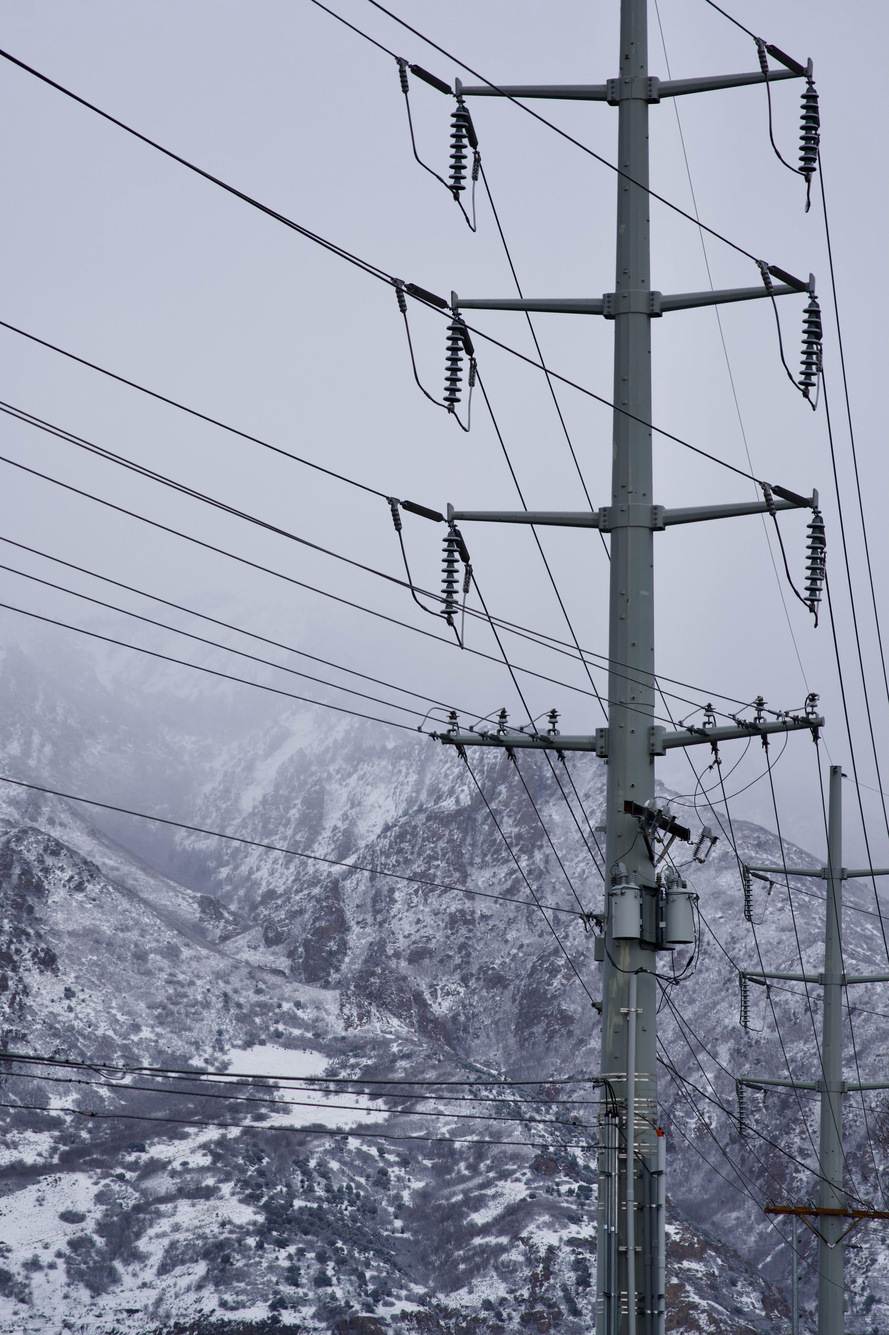insulator: (799, 511, 841, 627), (425, 521, 470, 627), (434, 304, 472, 425), (784, 80, 823, 197), (439, 102, 473, 209), (798, 295, 830, 403)
